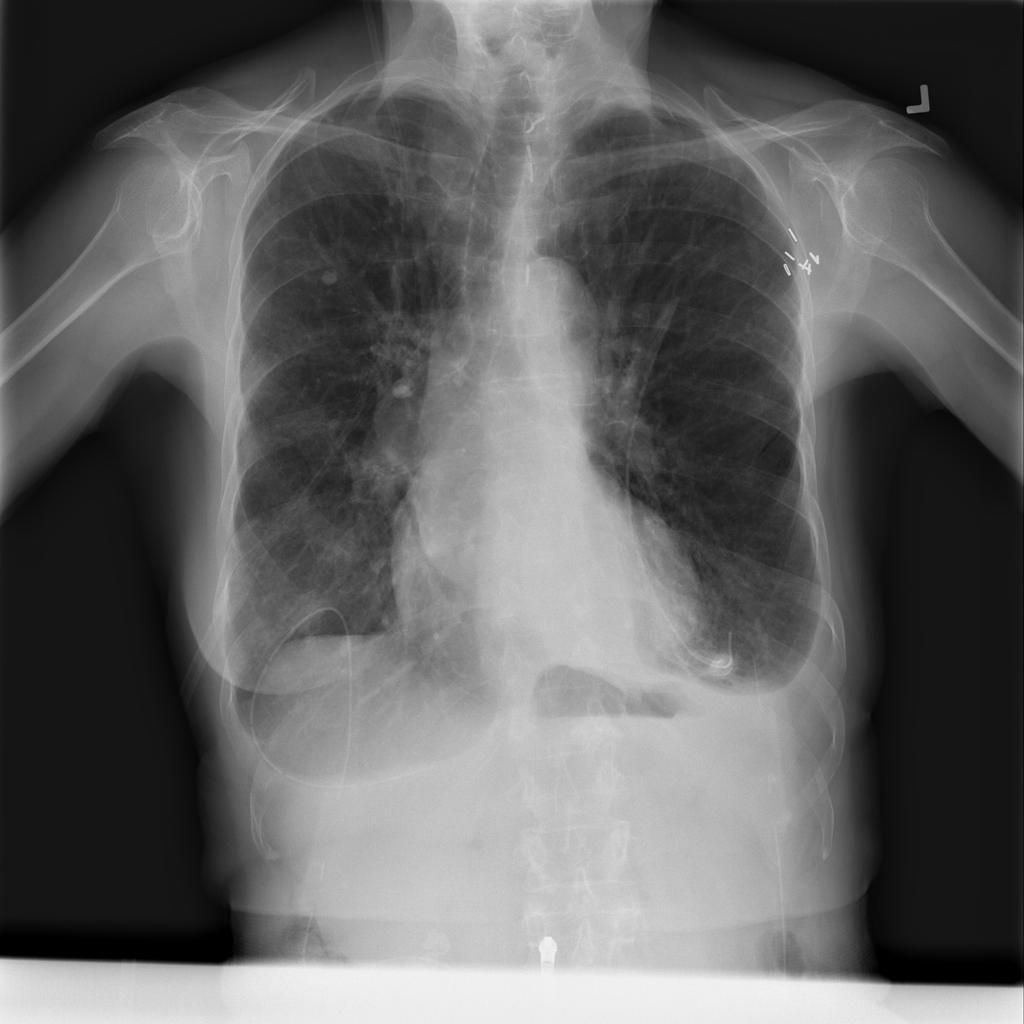nodule: (311, 259, 349, 295)
